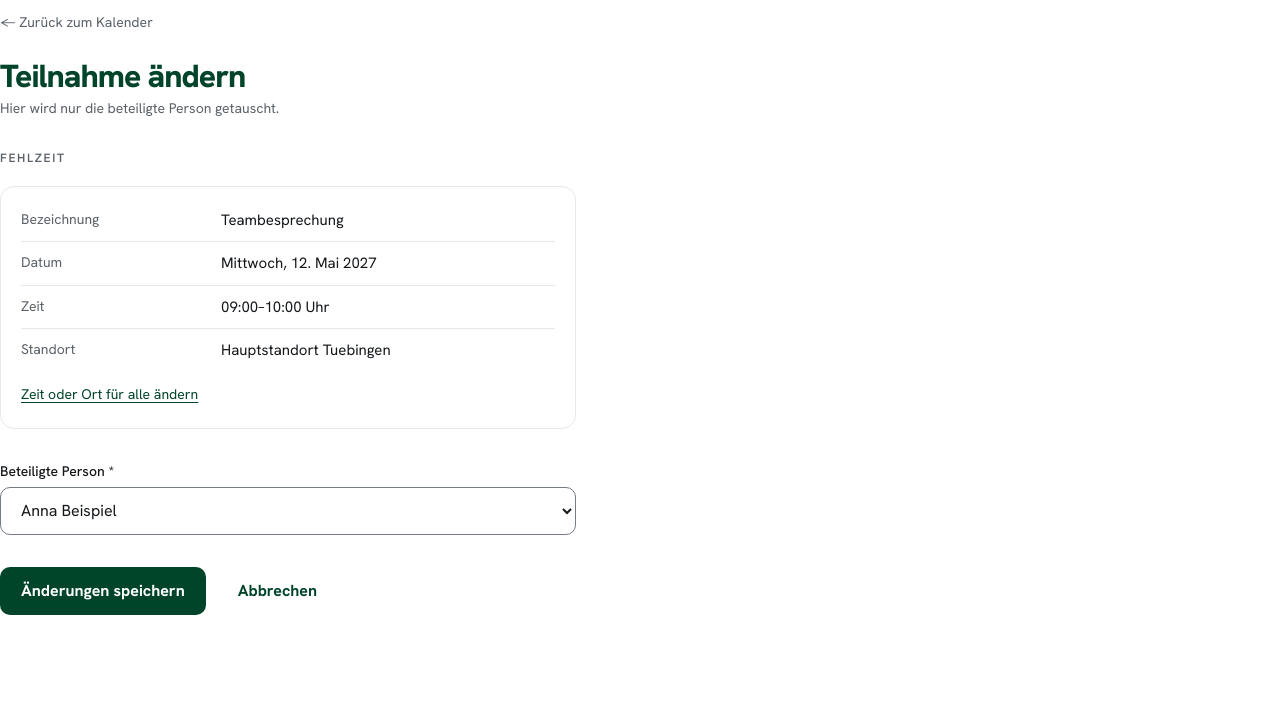
Scenario: EditAppointmentPage › TER-01: Teilnahme an einer Fehlzeit › nennt im Fehlerfenster die Teilnahme, nicht den Termin (TER-22)
The width and height of the screenshot is (1280, 720).
Click the button "Änderungen speichern" at (103, 591), box [0,567,206,615]
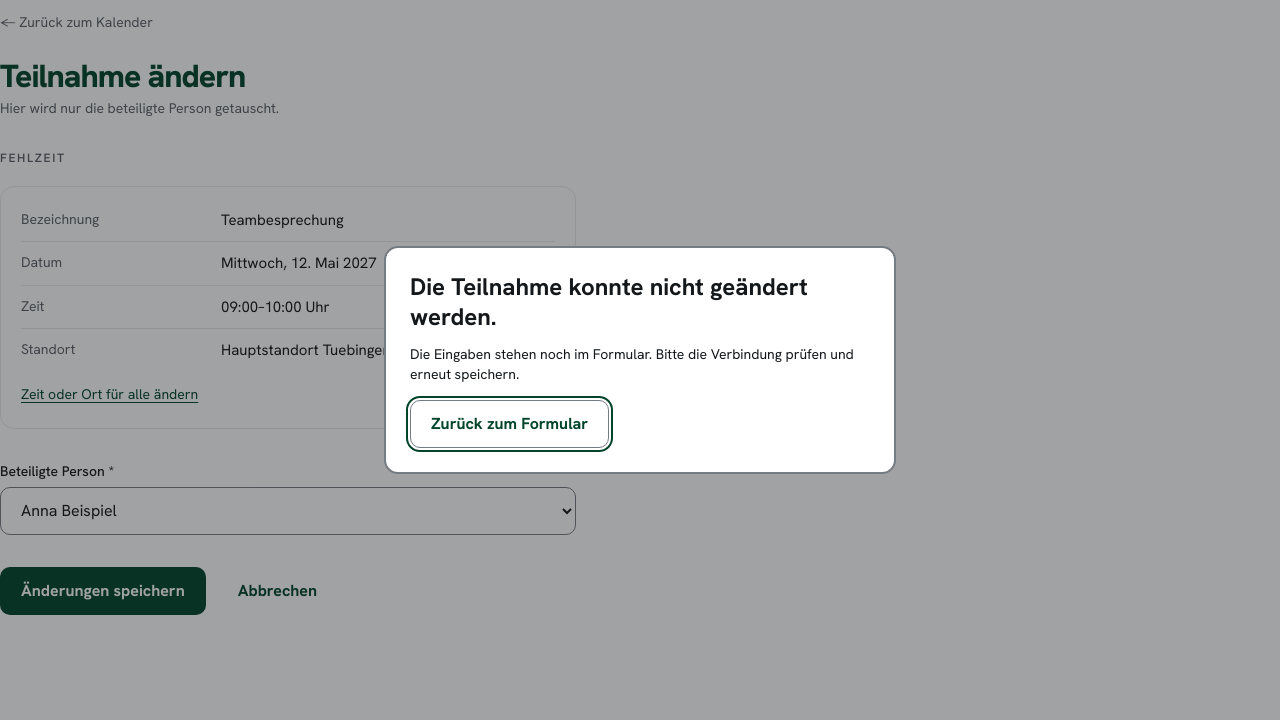
Result: the dialog "Die Teilnahme konnte nicht geändert werden." shows "Die Eingaben stehen noch im Formular." at [410,345,854,383]
